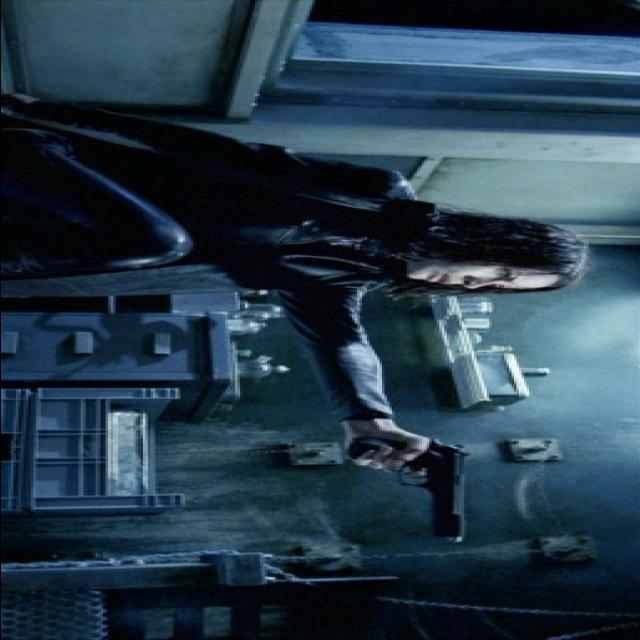weapons: (318, 424, 526, 552)
